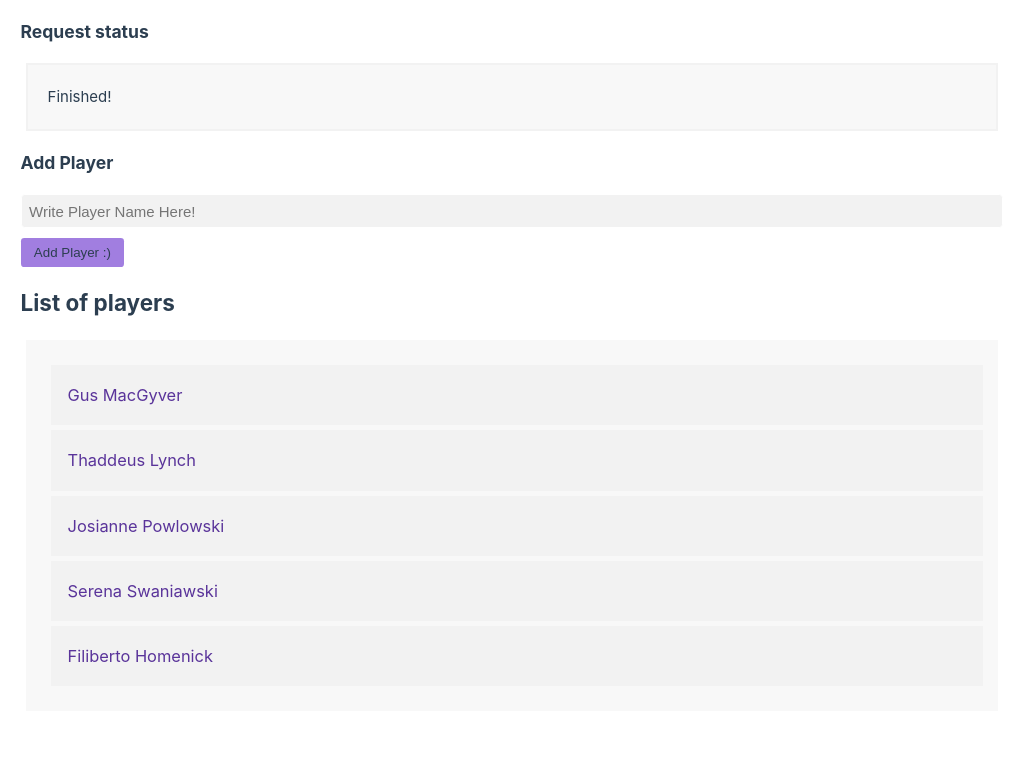
Test: should fetch single player data from backend when link is clicked
Click the link "Gus MacGyver": (125, 395) x1=50 y1=365 x2=983 y2=425
(page scrolled)
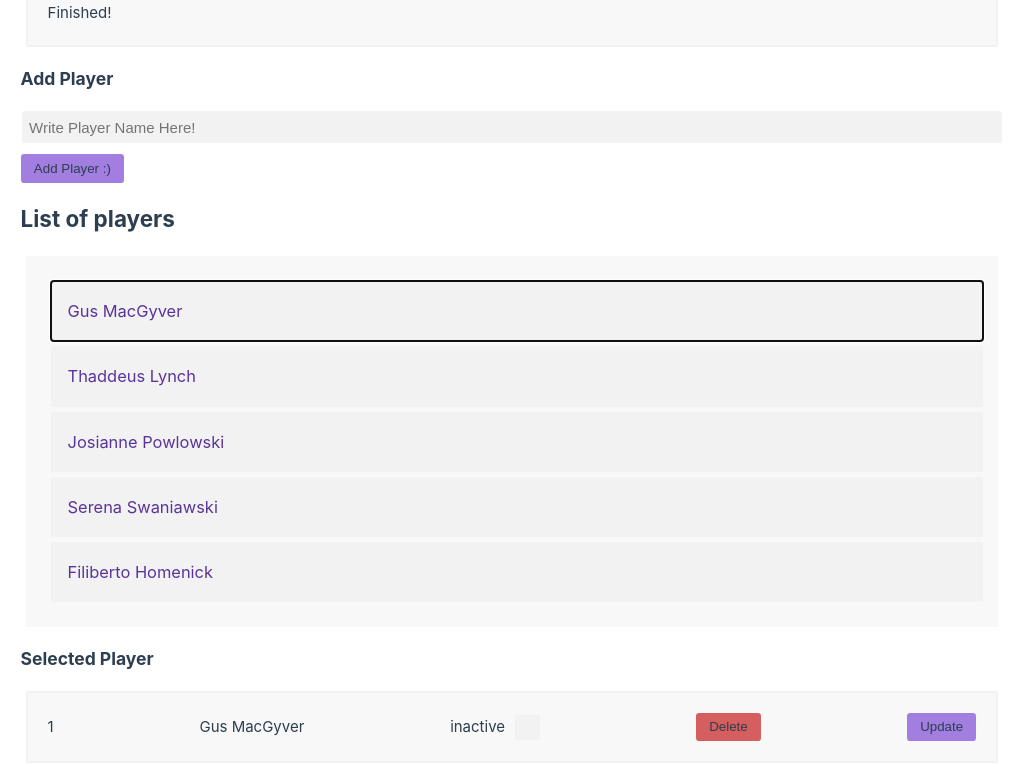
Check: the checkbox "inactive" is shown, box x1=450 y1=715 x2=515 y2=739
Check: the text "1" is shown, box x1=48 y1=715 x2=54 y2=739
Check: the text "Gus MacGyver" is shown, box x1=199 y1=715 x2=304 y2=739
